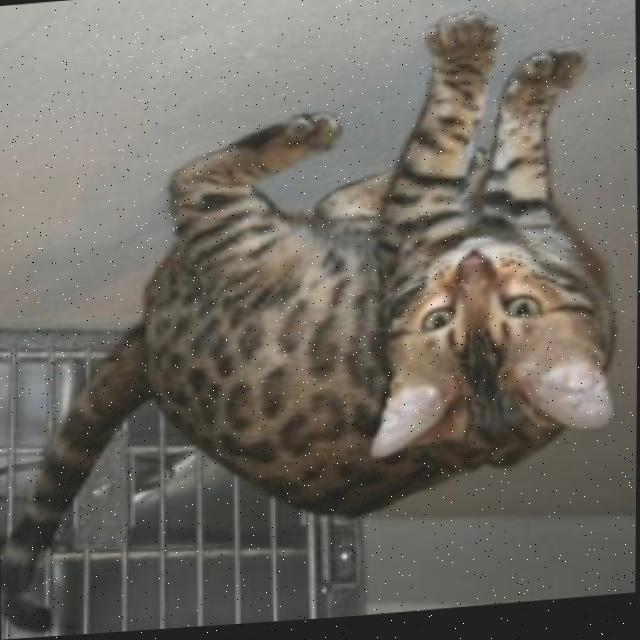Bengal: (0, 0, 636, 640)
